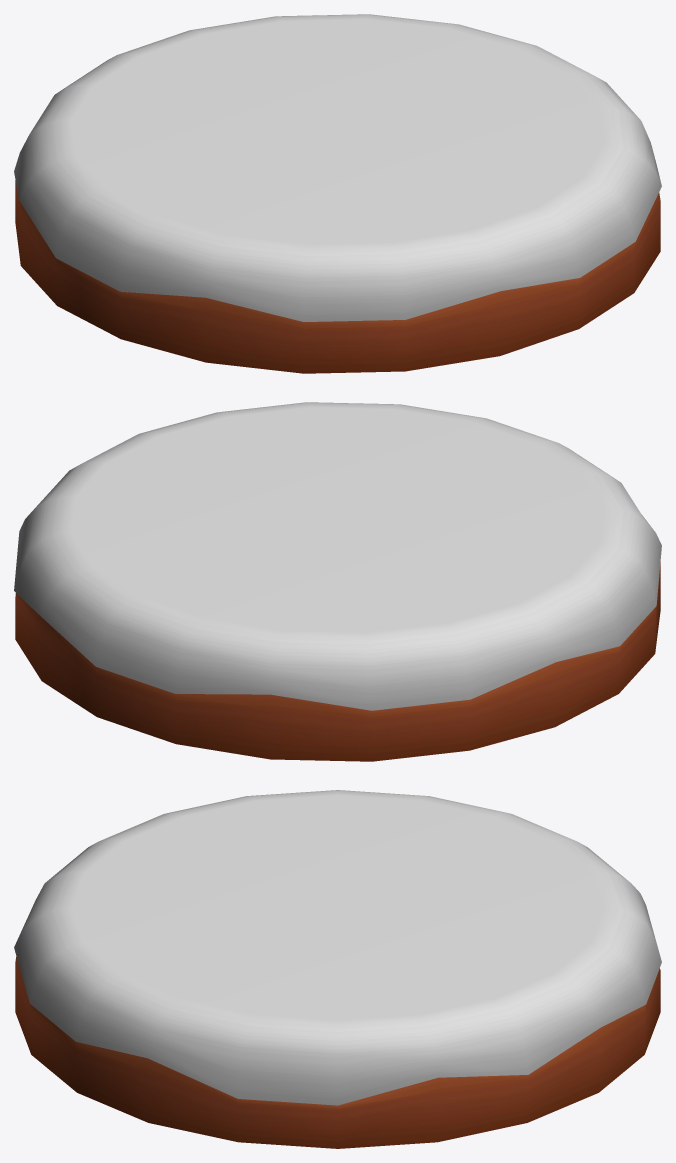
The model's file is Ground2.fbx.
3 views of the same model, one above another, from view 1: azimuth 30°, elevation 25°; view 2: azimuth 150°, elevation 25°; view 3: azimuth 270°, elevation 25° (orthographic).
Parts seen in each view (by area): view 1: Ground; view 2: Ground; view 3: Ground.
Part boxes in pixels (x1,y1,x2,y2): Ground: (14,14,661,373); Ground: (14,402,661,761); Ground: (14,790,661,1148).
Size of the model in its own units: 330 by 58.82 by 330.
Materials: 1 (1 with a texture image).
